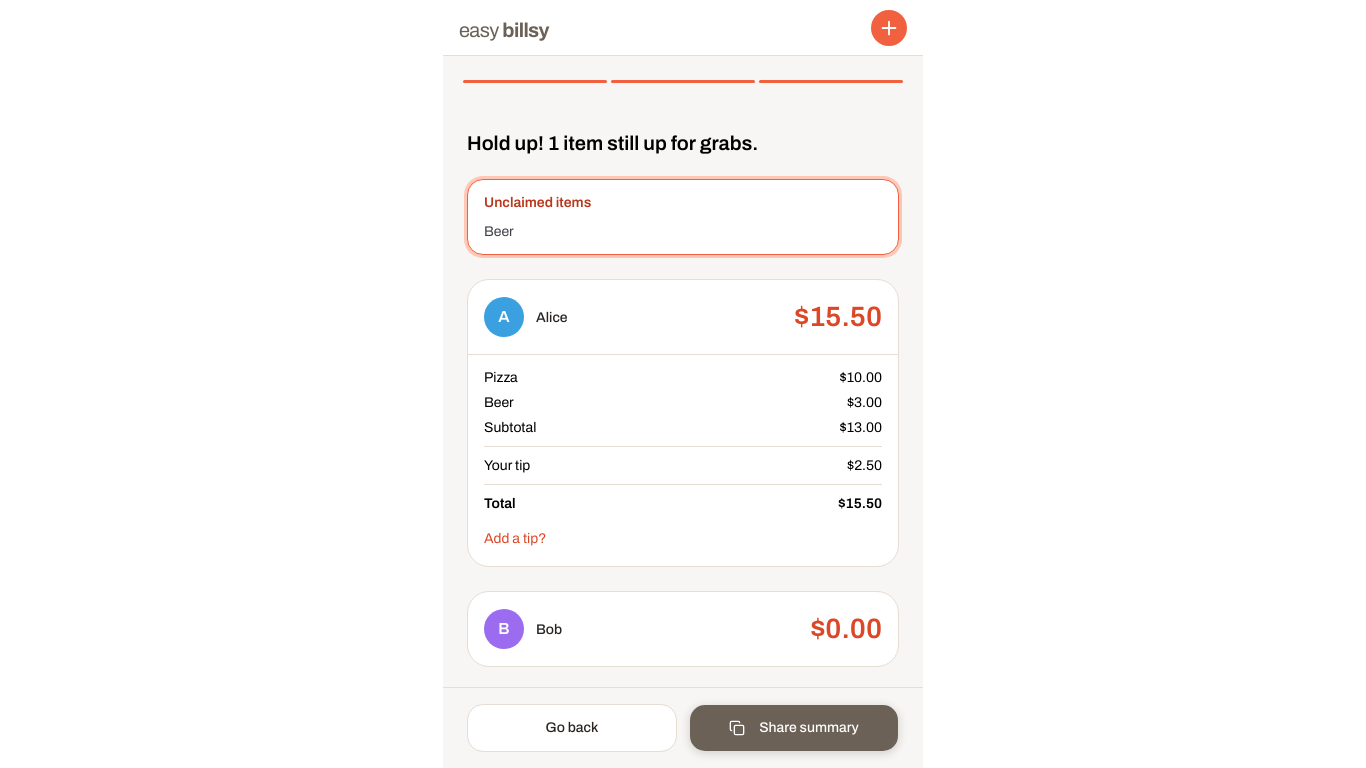
Test: PersonResultsScreen › G5 (unclaimed tappable): tapping unclaimed section opens confirmation dialog
Click the button with aria-label "view unclaimed items" at (538, 202), box [467,179,899,255]
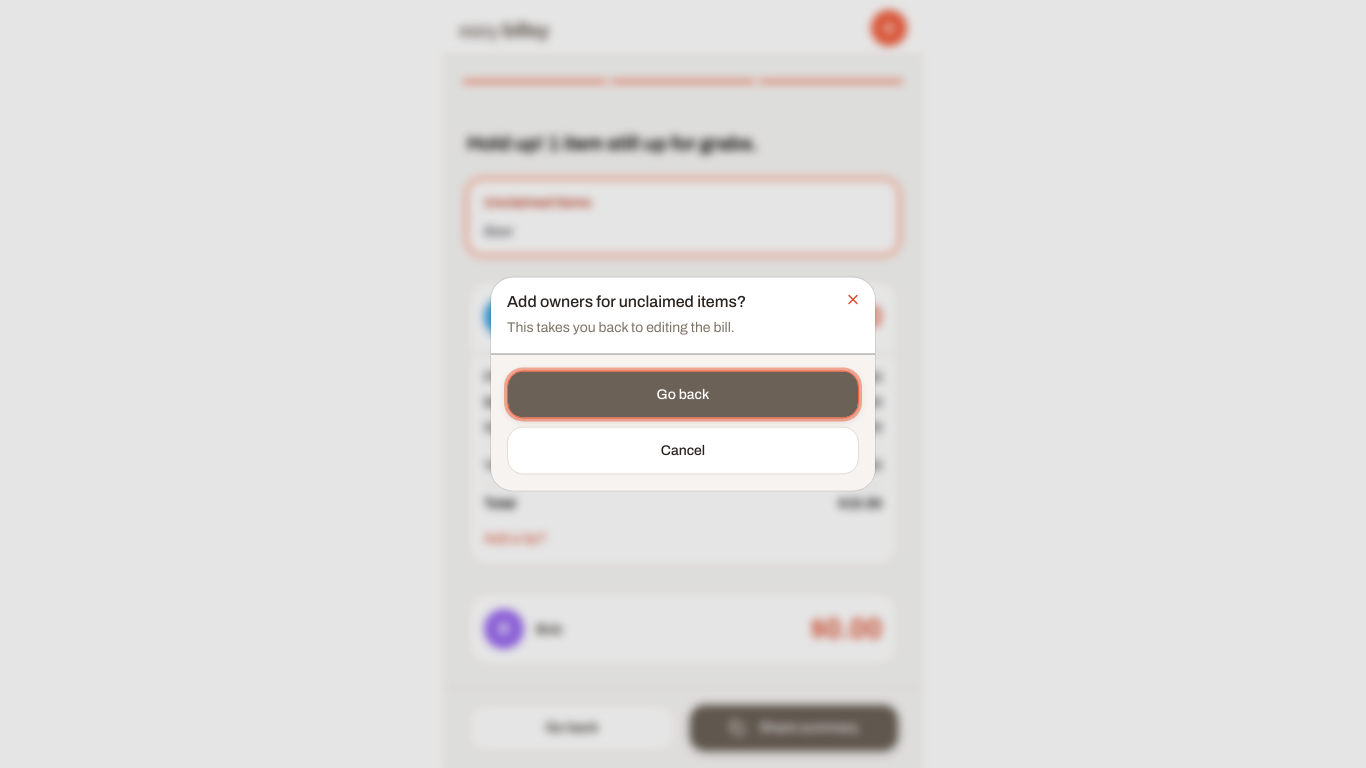
Now the heading "Add owners for unclaimed items?" is shown, box [507,292,746,310]
